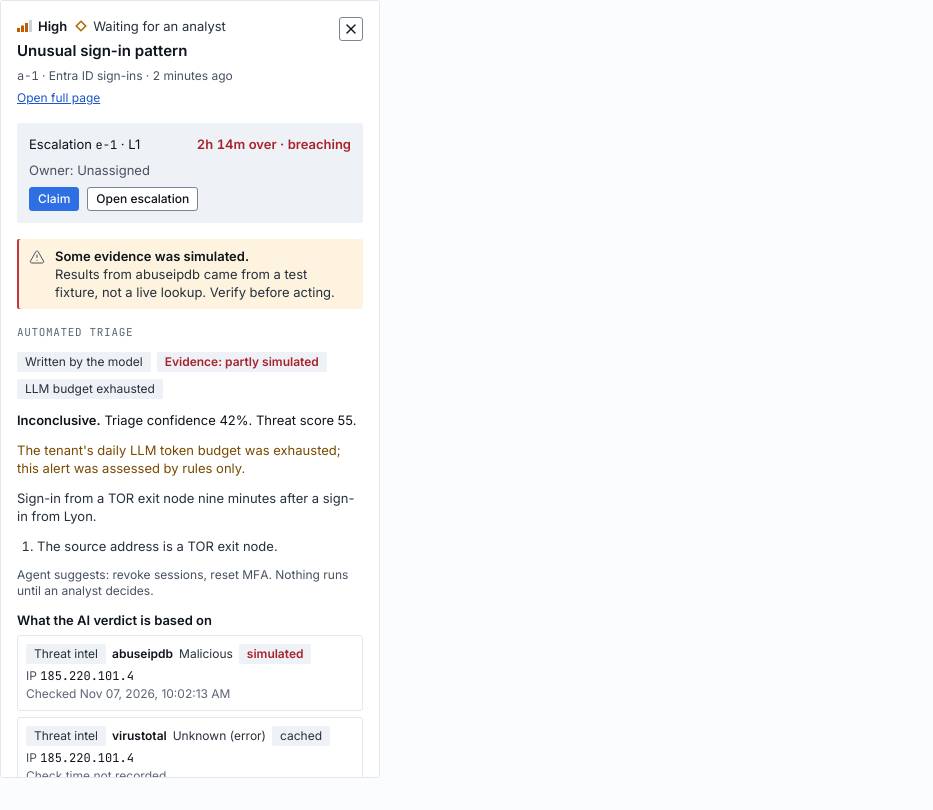
Test: alert panel escalation › shows the SLA and owner, and claims only when Claim is pressed
The width and height of the screenshot is (933, 810).
Expected: the element with test id "escalation-box" shows "Escalation e-1 · L1", left=17, top=123, right=363, bottom=223
Expected: the element with test id "escalation-box" shows "Owner: Unassigned", left=17, top=123, right=363, bottom=223
What coordinates should you click on to do the following:
click the button "Claim"
I would click on:
 (54, 199)
Its box is left=29, top=187, right=79, bottom=211.
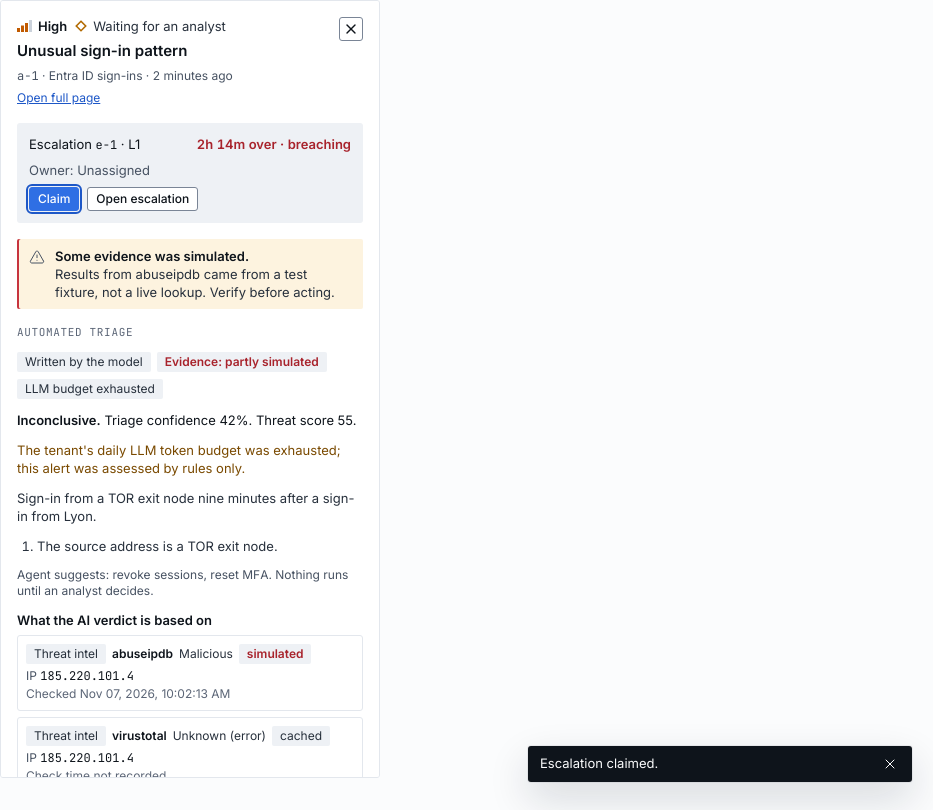
Expected: the text "Escalation claimed." is shown, left=540, top=755, right=658, bottom=771
